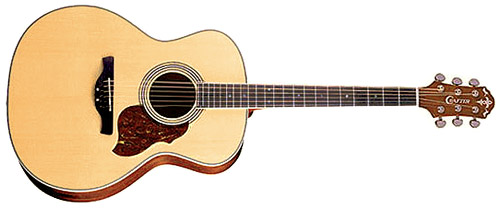guitar: (4, 2, 495, 203)
